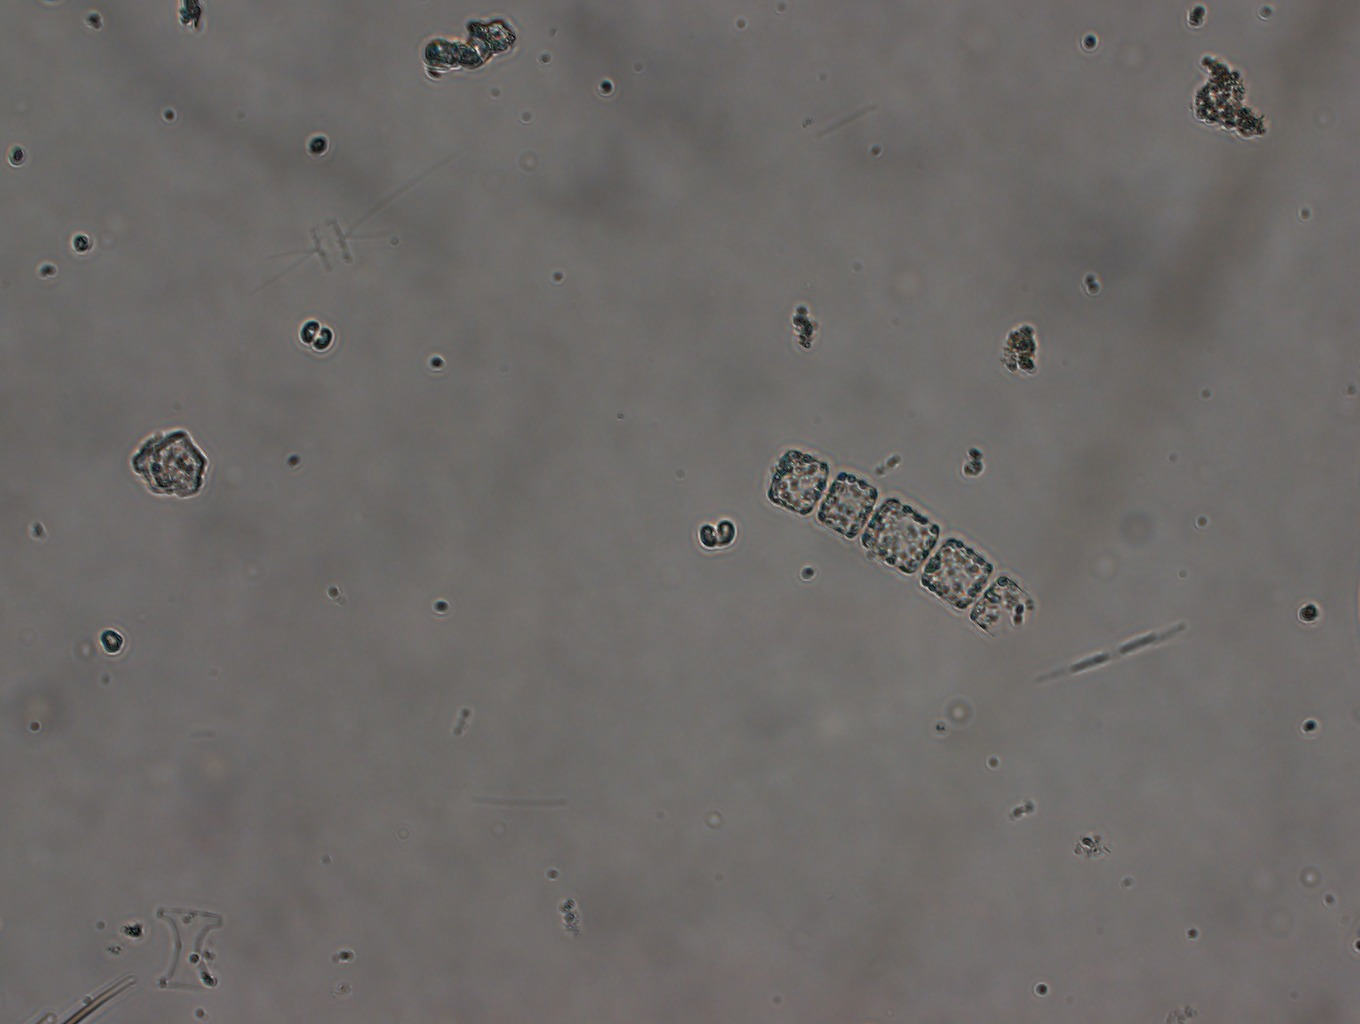chaetoceros: (240, 134, 475, 302)
detonula pumila: (761, 433, 1039, 643)
